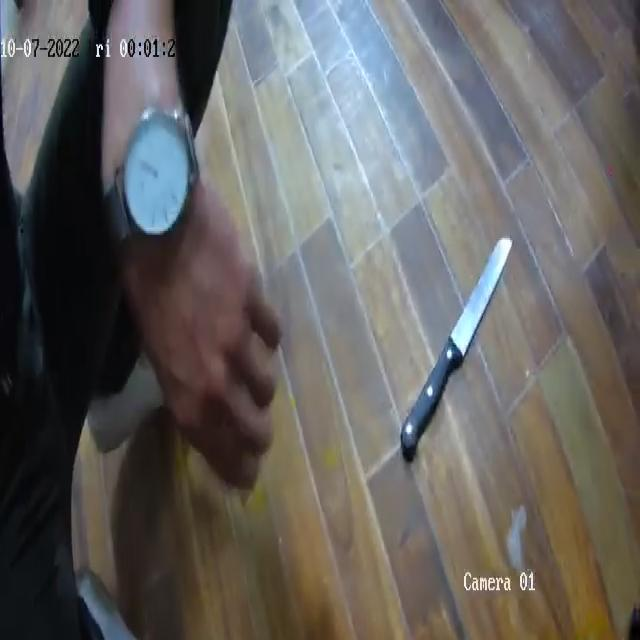Knife: (396, 235, 514, 462)
